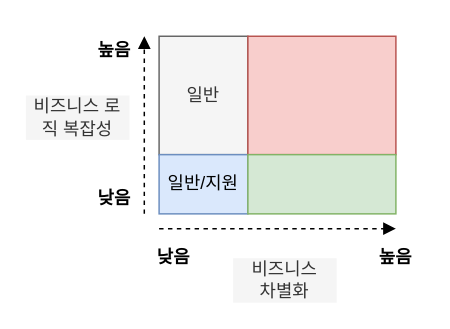
Some shapes in this 450 by 329 pixel diagram are drawn without their labels. The shapes that lost their labels are listed below. From the top down, each one's centre as x and y in pixels, then its label:
the point at 321,95: 핵심
the point at 321,183: 지원
